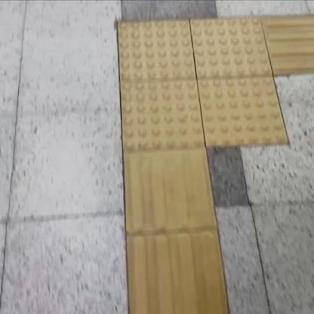Podoctatil: (101, 0, 300, 180), (123, 154, 228, 314)
